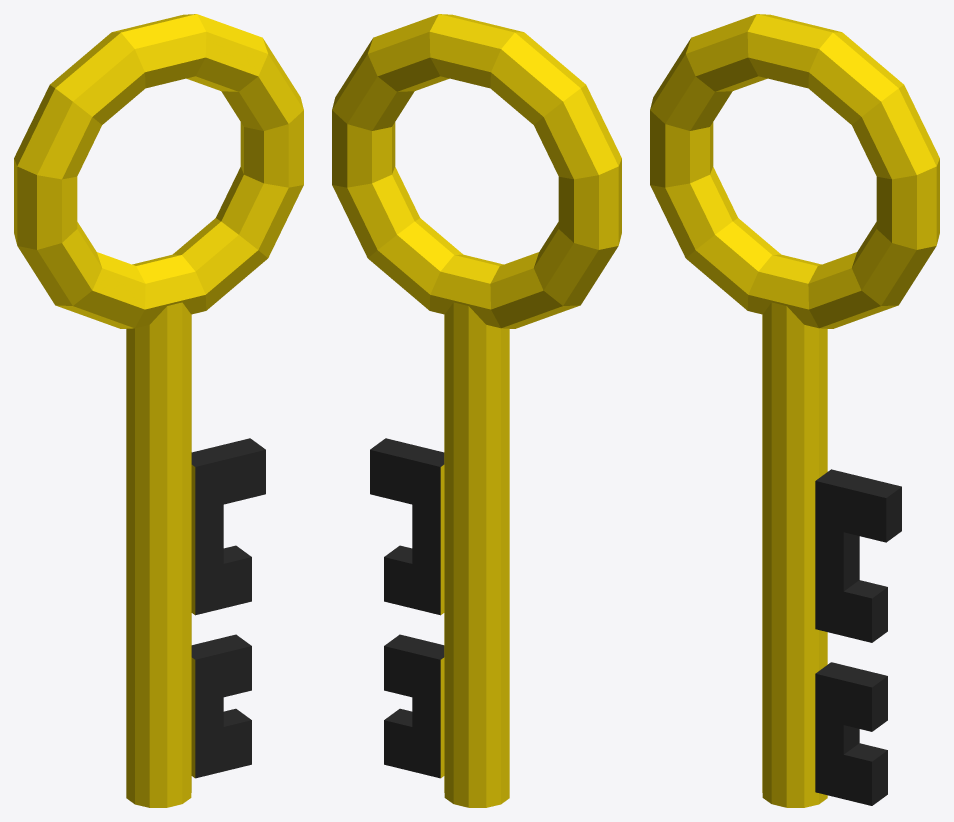
Rendered from Key.fbx.
3 renders of one model, left to right at view 1: azimuth 30°, elevation 25°; view 2: azimuth 150°, elevation 25°; view 3: azimuth 330°, elevation 25°, orthographic.
Visible parts, largest first — view 1: Key; view 2: Key; view 3: Key.
Part boxes in pixels (left/top/right/bottom): Key: left=14, top=14, right=303, bottom=807; Key: left=332, top=14, right=621, bottom=807; Key: left=650, top=14, right=939, bottom=807.
Bounding box in the file's own units: 31.25 × 81.25 × 6.25.
Materials: 1 (1 with a texture image).
